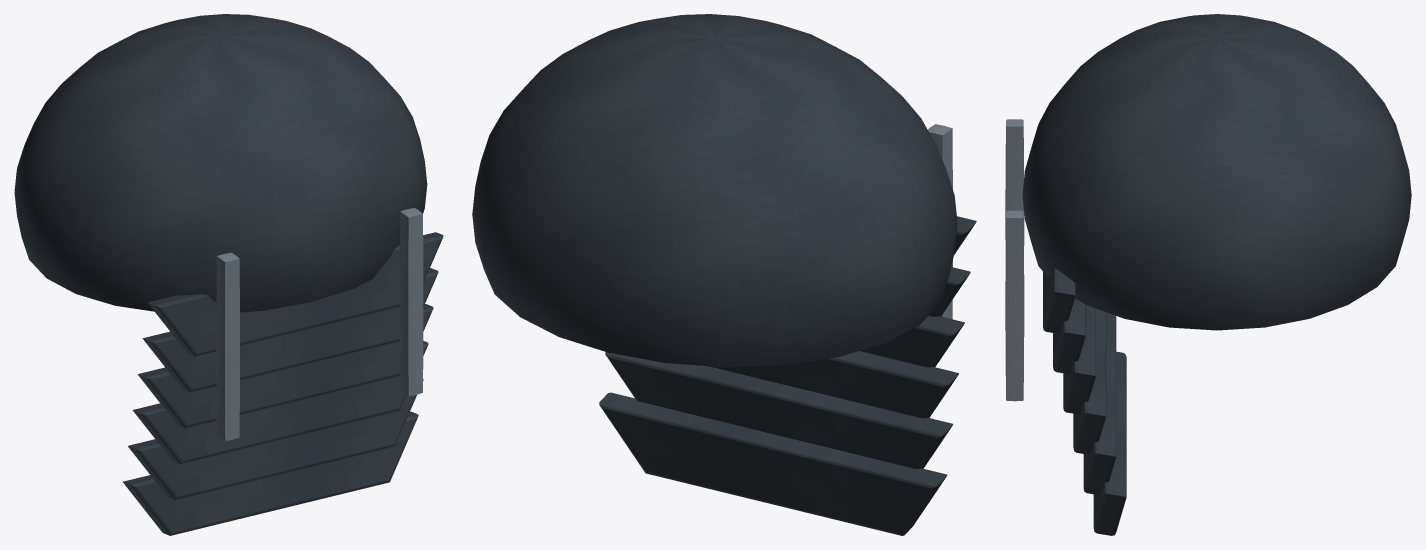
The picture shows the model from 3 angles, left to right: view 1: azimuth 30°, elevation 25°; view 2: azimuth 150°, elevation 25°; view 3: azimuth 270°, elevation 25°; orthographic projection. The views are drawn at different scales.
Visible parts, largest first — view 1: iron.0, iron.6, iron.5, iron.4, iron.1, iron.3, iron.2, steel.7, steel.8; view 2: iron.0, iron.6, iron.5, iron.4, iron.3, steel.7, iron.2; view 3: iron.0, steel.8, iron.6, iron.5, iron.4, iron.3, steel.7, iron.1, iron.2.
Boxes of the visible parts, x1,y1,x2,y2 form: iron.0: (14,14,427,312); iron.6: (123,411,418,535); iron.5: (128,379,423,499); iron.4: (132,341,428,464); iron.1: (147,232,443,356); iron.3: (137,304,433,428); iron.2: (142,268,438,392); steel.7: (216,252,239,440); steel.8: (399,208,423,396); iron.0: (472,14,957,367); iron.6: (599,392,947,535); iron.5: (605,352,952,468); iron.4: (708,351,958,418); iron.3: (860,315,964,367); steel.7: (927,124,952,319); iron.2: (929,267,970,316); iron.0: (1022,14,1411,330); steel.8: (1005,210,1024,401); iron.6: (1093,351,1126,535); iron.5: (1083,312,1116,495); iron.4: (1073,308,1106,454); iron.3: (1063,305,1095,414); steel.7: (1005,119,1024,245); iron.1: (1043,268,1075,333); iron.2: (1053,298,1085,374).
Bounding box in the file's own units: 0.34 × 0.3843 × 0.3195.
2 materials, 2 textured.
